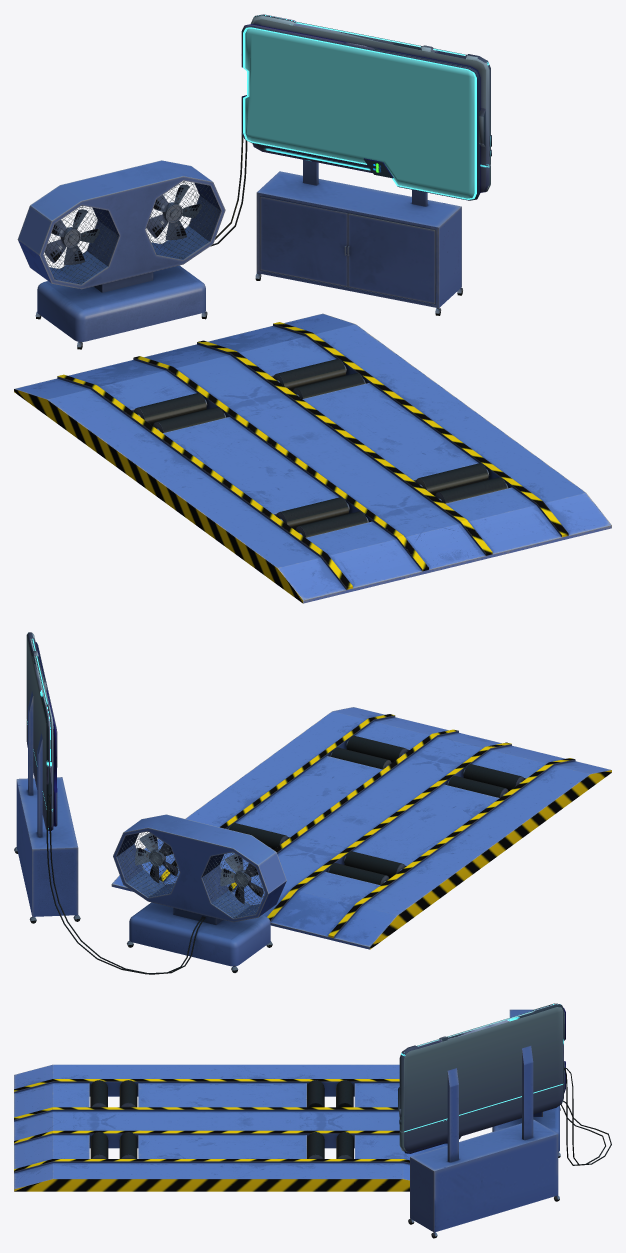
The model's file is DINAMOMETRO_PANTALLA.fbx.
3 views of the same model, one above another, from view 1: azimuth 30°, elevation 25°; view 2: azimuth 150°, elevation 25°; view 3: azimuth 270°, elevation 25° (orthographic). The views are drawn at different scales.
Parts seen in each view (by area): view 1: Cube, Cube.011, Cylinder.011, Cube.002, Cylinder.010, Cylinder.008, Cylinder.007, Cylinder.003, Cylinder.001, Cylinder.005, Cylinder.013, Cylinder.014 (+4 smaller); view 2: Cube, Cylinder.011, Cube.002, Cube.011, Cylinder.008, Cylinder.010, Cylinder.002, Cylinder.006, Cylinder, Cylinder.009, Cylinder.012, Cylinder.003 (+5 smaller); view 3: Cube, Cube.011, Cube.002, Cylinder.011, Cylinder.003, Cylinder, Cylinder.001, Cylinder.006, Cylinder.007, Cylinder.002, Cylinder.004, Cylinder.005 (+2 smaller).
Part boxes in pixels (x1,y1,x2,y2): Cube: [14, 313, 611, 603]; Cube.011: [241, 14, 491, 200]; Cylinder.011: [17, 160, 225, 341]; Cube.002: [256, 159, 461, 308]; Cylinder.010: [146, 184, 201, 240]; Cylinder.008: [44, 209, 100, 264]; Cylinder.007: [133, 393, 207, 425]; Cylinder.003: [276, 497, 349, 529]; Cylinder.001: [415, 463, 489, 495]; Cylinder.005: [273, 359, 346, 391]; Cylinder.013: [44, 205, 117, 283]; Cylinder.014: [146, 181, 219, 258]; Cube: [111, 707, 611, 949]; Cylinder.011: [113, 814, 286, 966]; Cube.002: [16, 691, 78, 916]; Cube.011: [26, 632, 57, 830]; Cylinder.008: [220, 854, 263, 904]; Cylinder.010: [135, 833, 177, 883]; Cylinder.002: [463, 764, 524, 791]; Cylinder.006: [344, 851, 405, 878]; Cylinder: [346, 735, 407, 762]; Cylinder.009: [118, 831, 179, 896]; Cylinder.012: [203, 852, 264, 917]; Cylinder.003: [447, 775, 508, 797]; Cube: [14, 1064, 447, 1191]; Cube.011: [398, 1003, 565, 1153]; Cube.002: [410, 1046, 558, 1232]; Cylinder.011: [492, 1009, 559, 1151]; Cylinder.003: [119, 1080, 137, 1107]; Cylinder: [90, 1132, 108, 1158]; Cylinder.001: [119, 1132, 137, 1158]; Cylinder.006: [307, 1080, 324, 1107]; Cylinder.007: [336, 1080, 353, 1107]; Cylinder.002: [90, 1080, 107, 1107]; Cylinder.004: [307, 1132, 324, 1158]; Cylinder.005: [336, 1132, 353, 1158].
Bounding box in the file's own units: 511 × 278 × 785.
